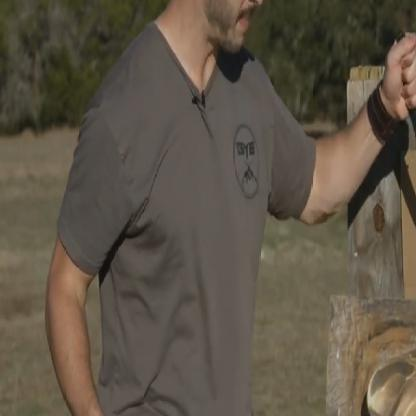knife: (384, 19, 416, 206)
